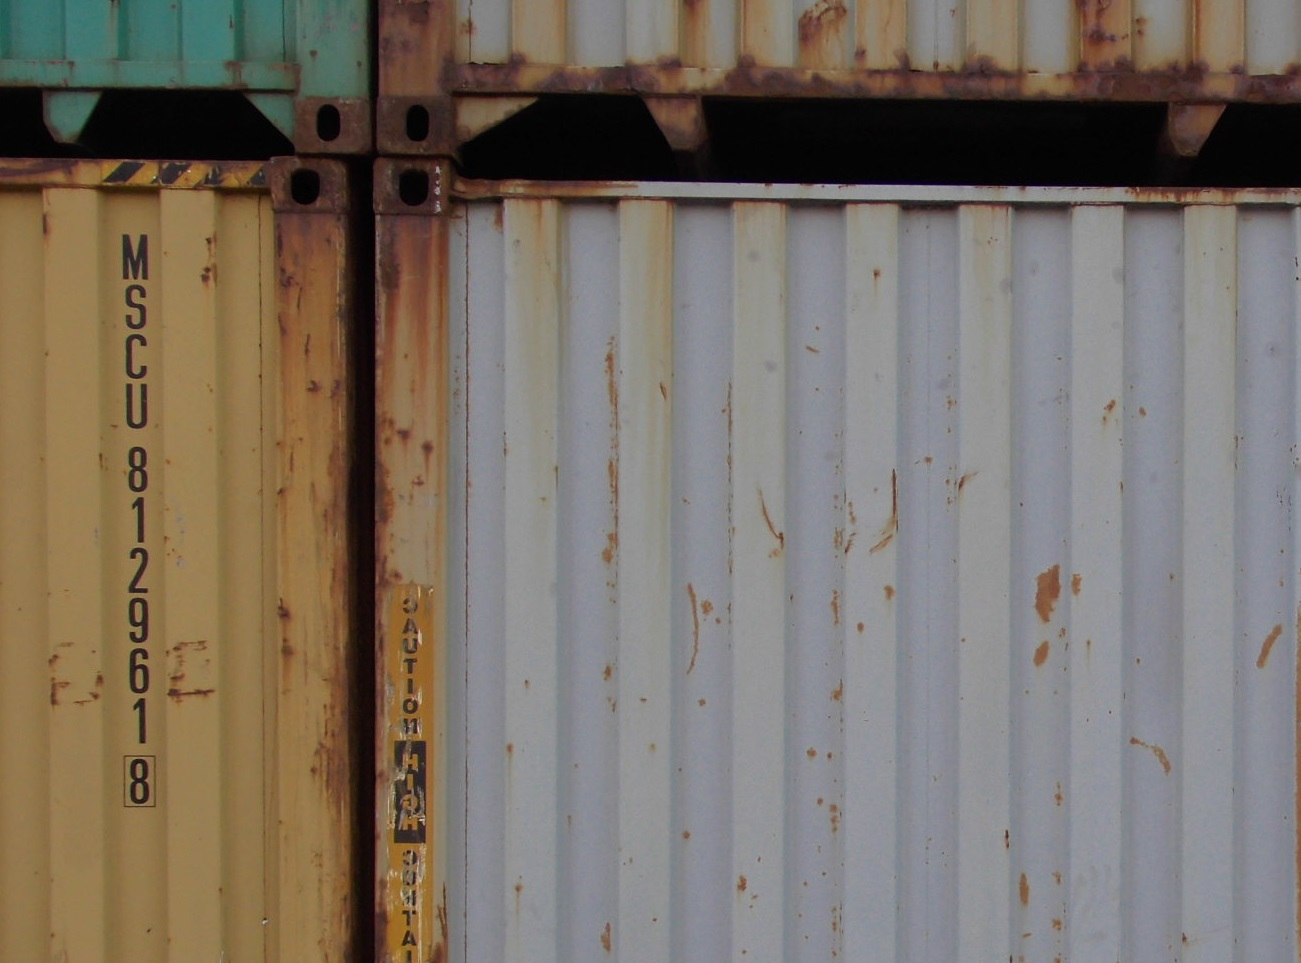container_no_door: (375, 162, 1299, 960), (1, 164, 358, 963)
